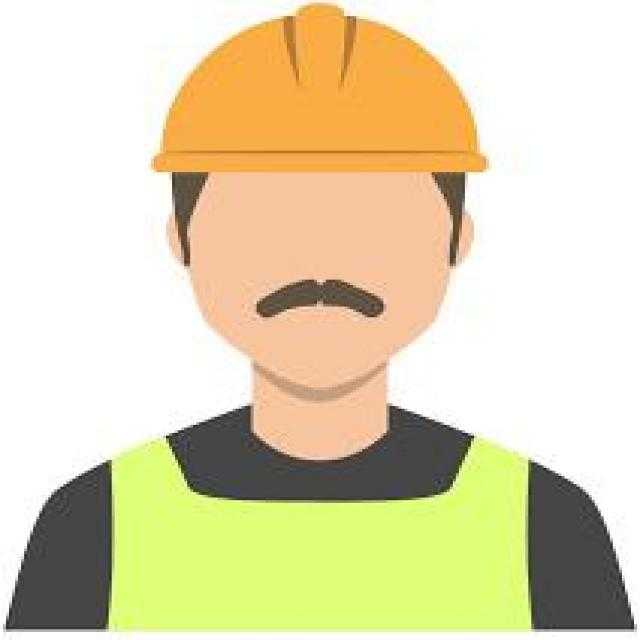reflective_jacket: (45, 422, 618, 634)
safety_helmet: (144, 5, 500, 177)
